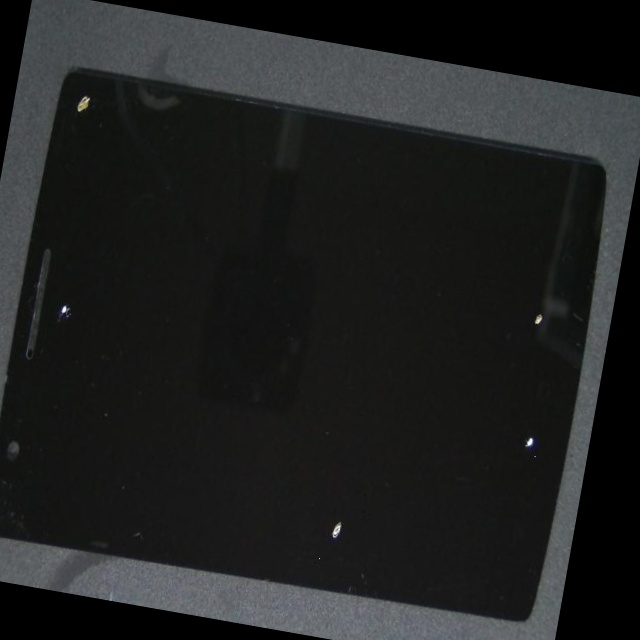stain: (198, 189, 623, 636), (142, 218, 576, 640), (228, 133, 633, 467), (0, 140, 124, 492)
